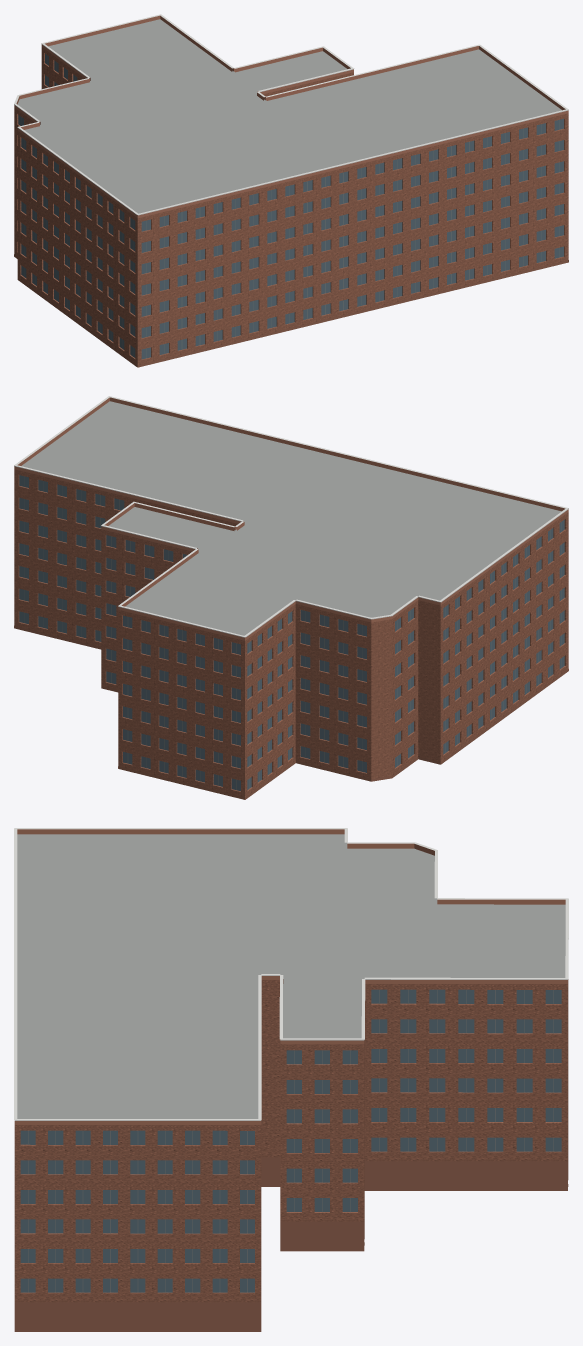
3 renders of one model, top to bottom at view 1: azimuth 30°, elevation 25°; view 2: azimuth 150°, elevation 25°; view 3: azimuth 270°, elevation 25°, orthographic. The views are drawn at different scales.
Parts seen in each view (by area): view 1: dasan__wall, dasan__roof, dasan__glass, dasan__parapet, dasan__trim, dasan__frame, dasan__base; view 2: dasan__wall, dasan__roof, dasan__glass, dasan__parapet, dasan__trim, dasan__frame, dasan__base; view 3: dasan__roof, dasan__wall, dasan__glass, dasan__base, dasan__parapet, dasan__trim, dasan__frame.
Boxes of the visible parts, x1=… form: dasan__wall: x1=14, y1=47, x2=568, y2=367; dasan__roof: x1=17, y1=19, x2=561, y2=213; dasan__glass: x1=18, y1=54, x2=563, y2=359; dasan__parapet: x1=14, y1=15, x2=568, y2=218; dasan__trim: x1=14, y1=14, x2=568, y2=215; dasan__frame: x1=21, y1=55, x2=559, y2=358; dasan__base: x1=14, y1=254, x2=568, y2=367; dasan__wall: x1=14, y1=469, x2=568, y2=799; dasan__roof: x1=21, y1=401, x2=561, y2=635; dasan__glass: x1=19, y1=475, x2=564, y2=791; dasan__parapet: x1=14, y1=397, x2=568, y2=640; dasan__trim: x1=14, y1=396, x2=568, y2=637; dasan__frame: x1=24, y1=476, x2=561, y2=790; dasan__base: x1=14, y1=626, x2=568, y2=799; dasan__roof: x1=17, y1=834, x2=565, y2=1118; dasan__wall: x1=14, y1=979, x2=568, y2=1302; dasan__glass: x1=20, y1=989, x2=561, y2=1292; dasan__base: x1=14, y1=1157, x2=568, y2=1331; dasan__parapet: x1=14, y1=829, x2=567, y2=1124; dasan__trim: x1=14, y1=828, x2=568, y2=1120; dasan__frame: x1=28, y1=989, x2=553, y2=1292.
Bounding box in the file's own units: 76.33 × 25.8 × 61.27.
Materials: 7 (1 with a texture image).
